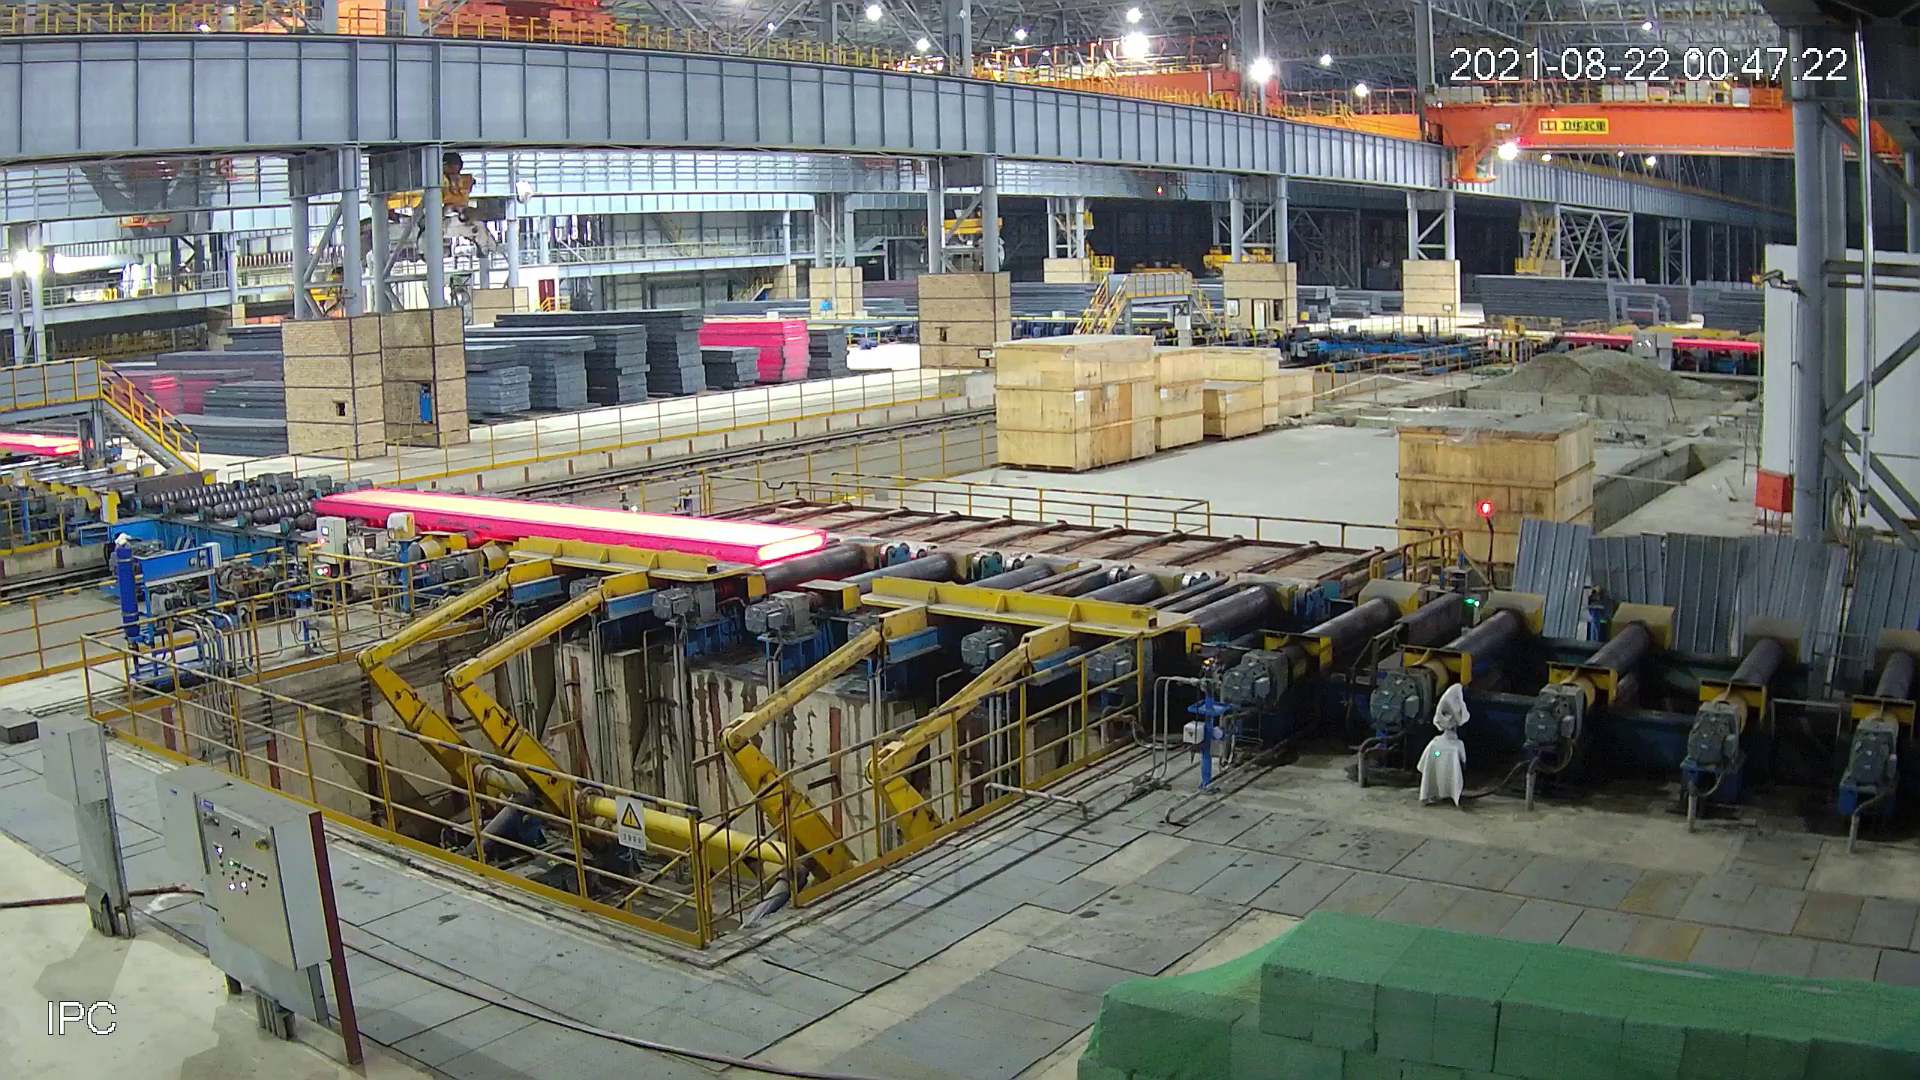slab: (301, 483, 831, 574)
